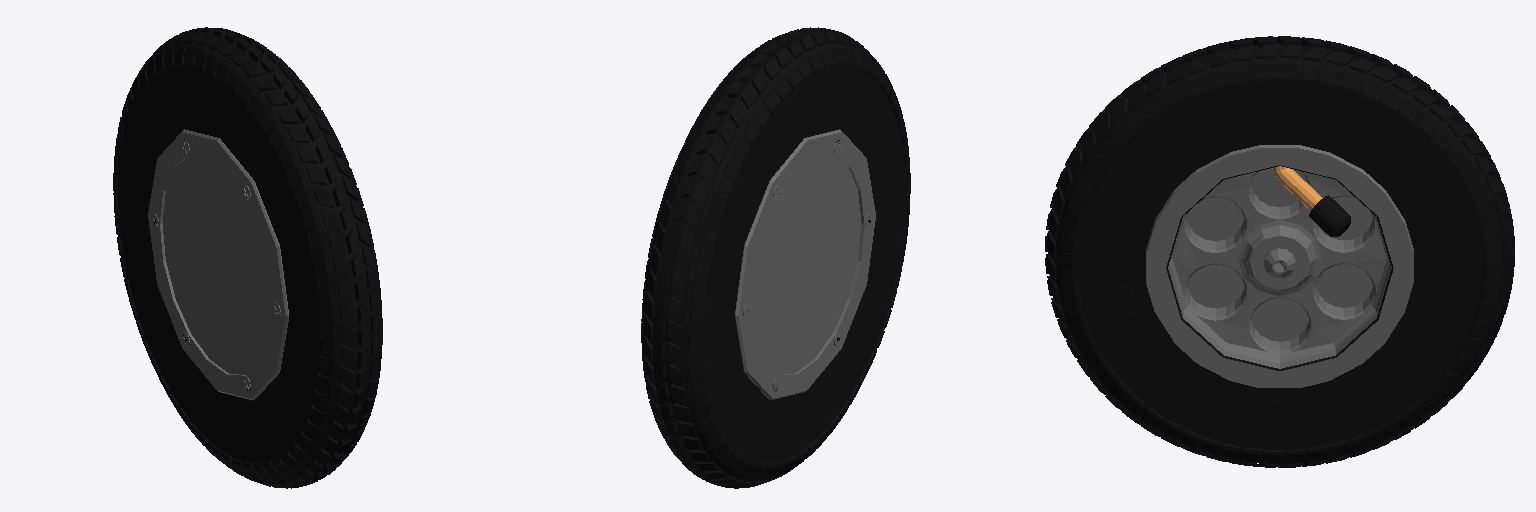
File: Right_Tire.obj
The picture shows the model from 3 angles: view 1: azimuth 30°, elevation 25°; view 2: azimuth 150°, elevation 25°; view 3: azimuth 270°, elevation 25°; orthographic projection.
Parts seen in each view (by area): view 1: Right_Tire; view 2: Right_Tire; view 3: Right_Tire.
Boxes of the visible parts, x1=… form: Right_Tire: x1=113, y1=27, x2=382, y2=488; Right_Tire: x1=641, y1=27, x2=910, y2=488; Right_Tire: x1=1045, y1=36, x2=1514, y2=467.
Size of the model in its own units: 1.24 by 6.3 by 6.3.